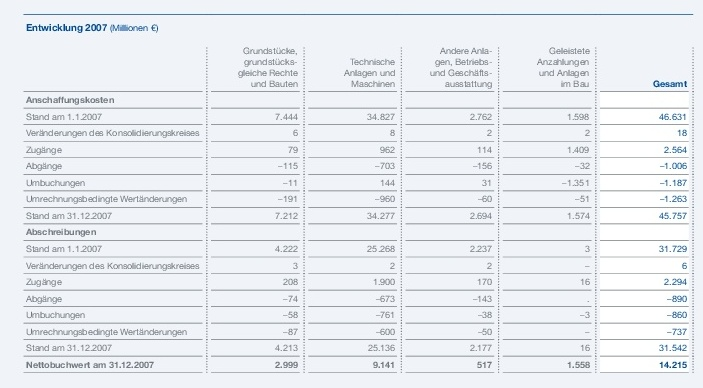table: (0, 0, 703, 388)
